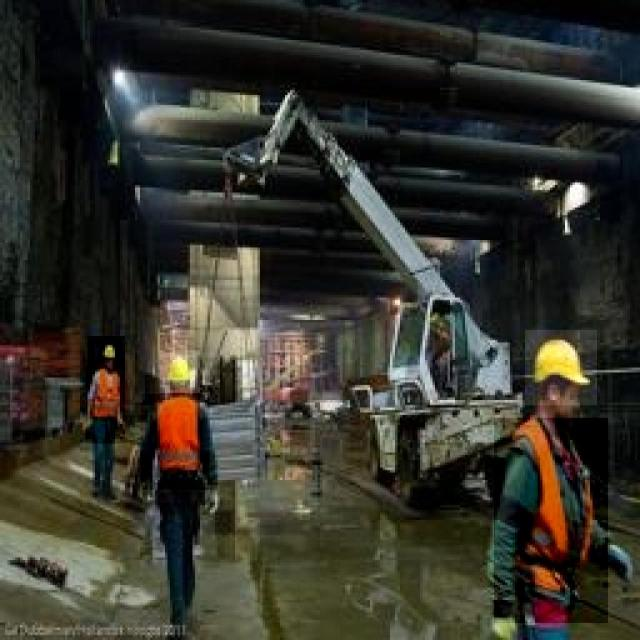Helmet: (525, 330, 597, 405), (160, 350, 200, 393), (87, 336, 125, 369)
Safety Vest: (494, 418, 608, 623), (140, 394, 210, 490), (85, 366, 125, 444)
